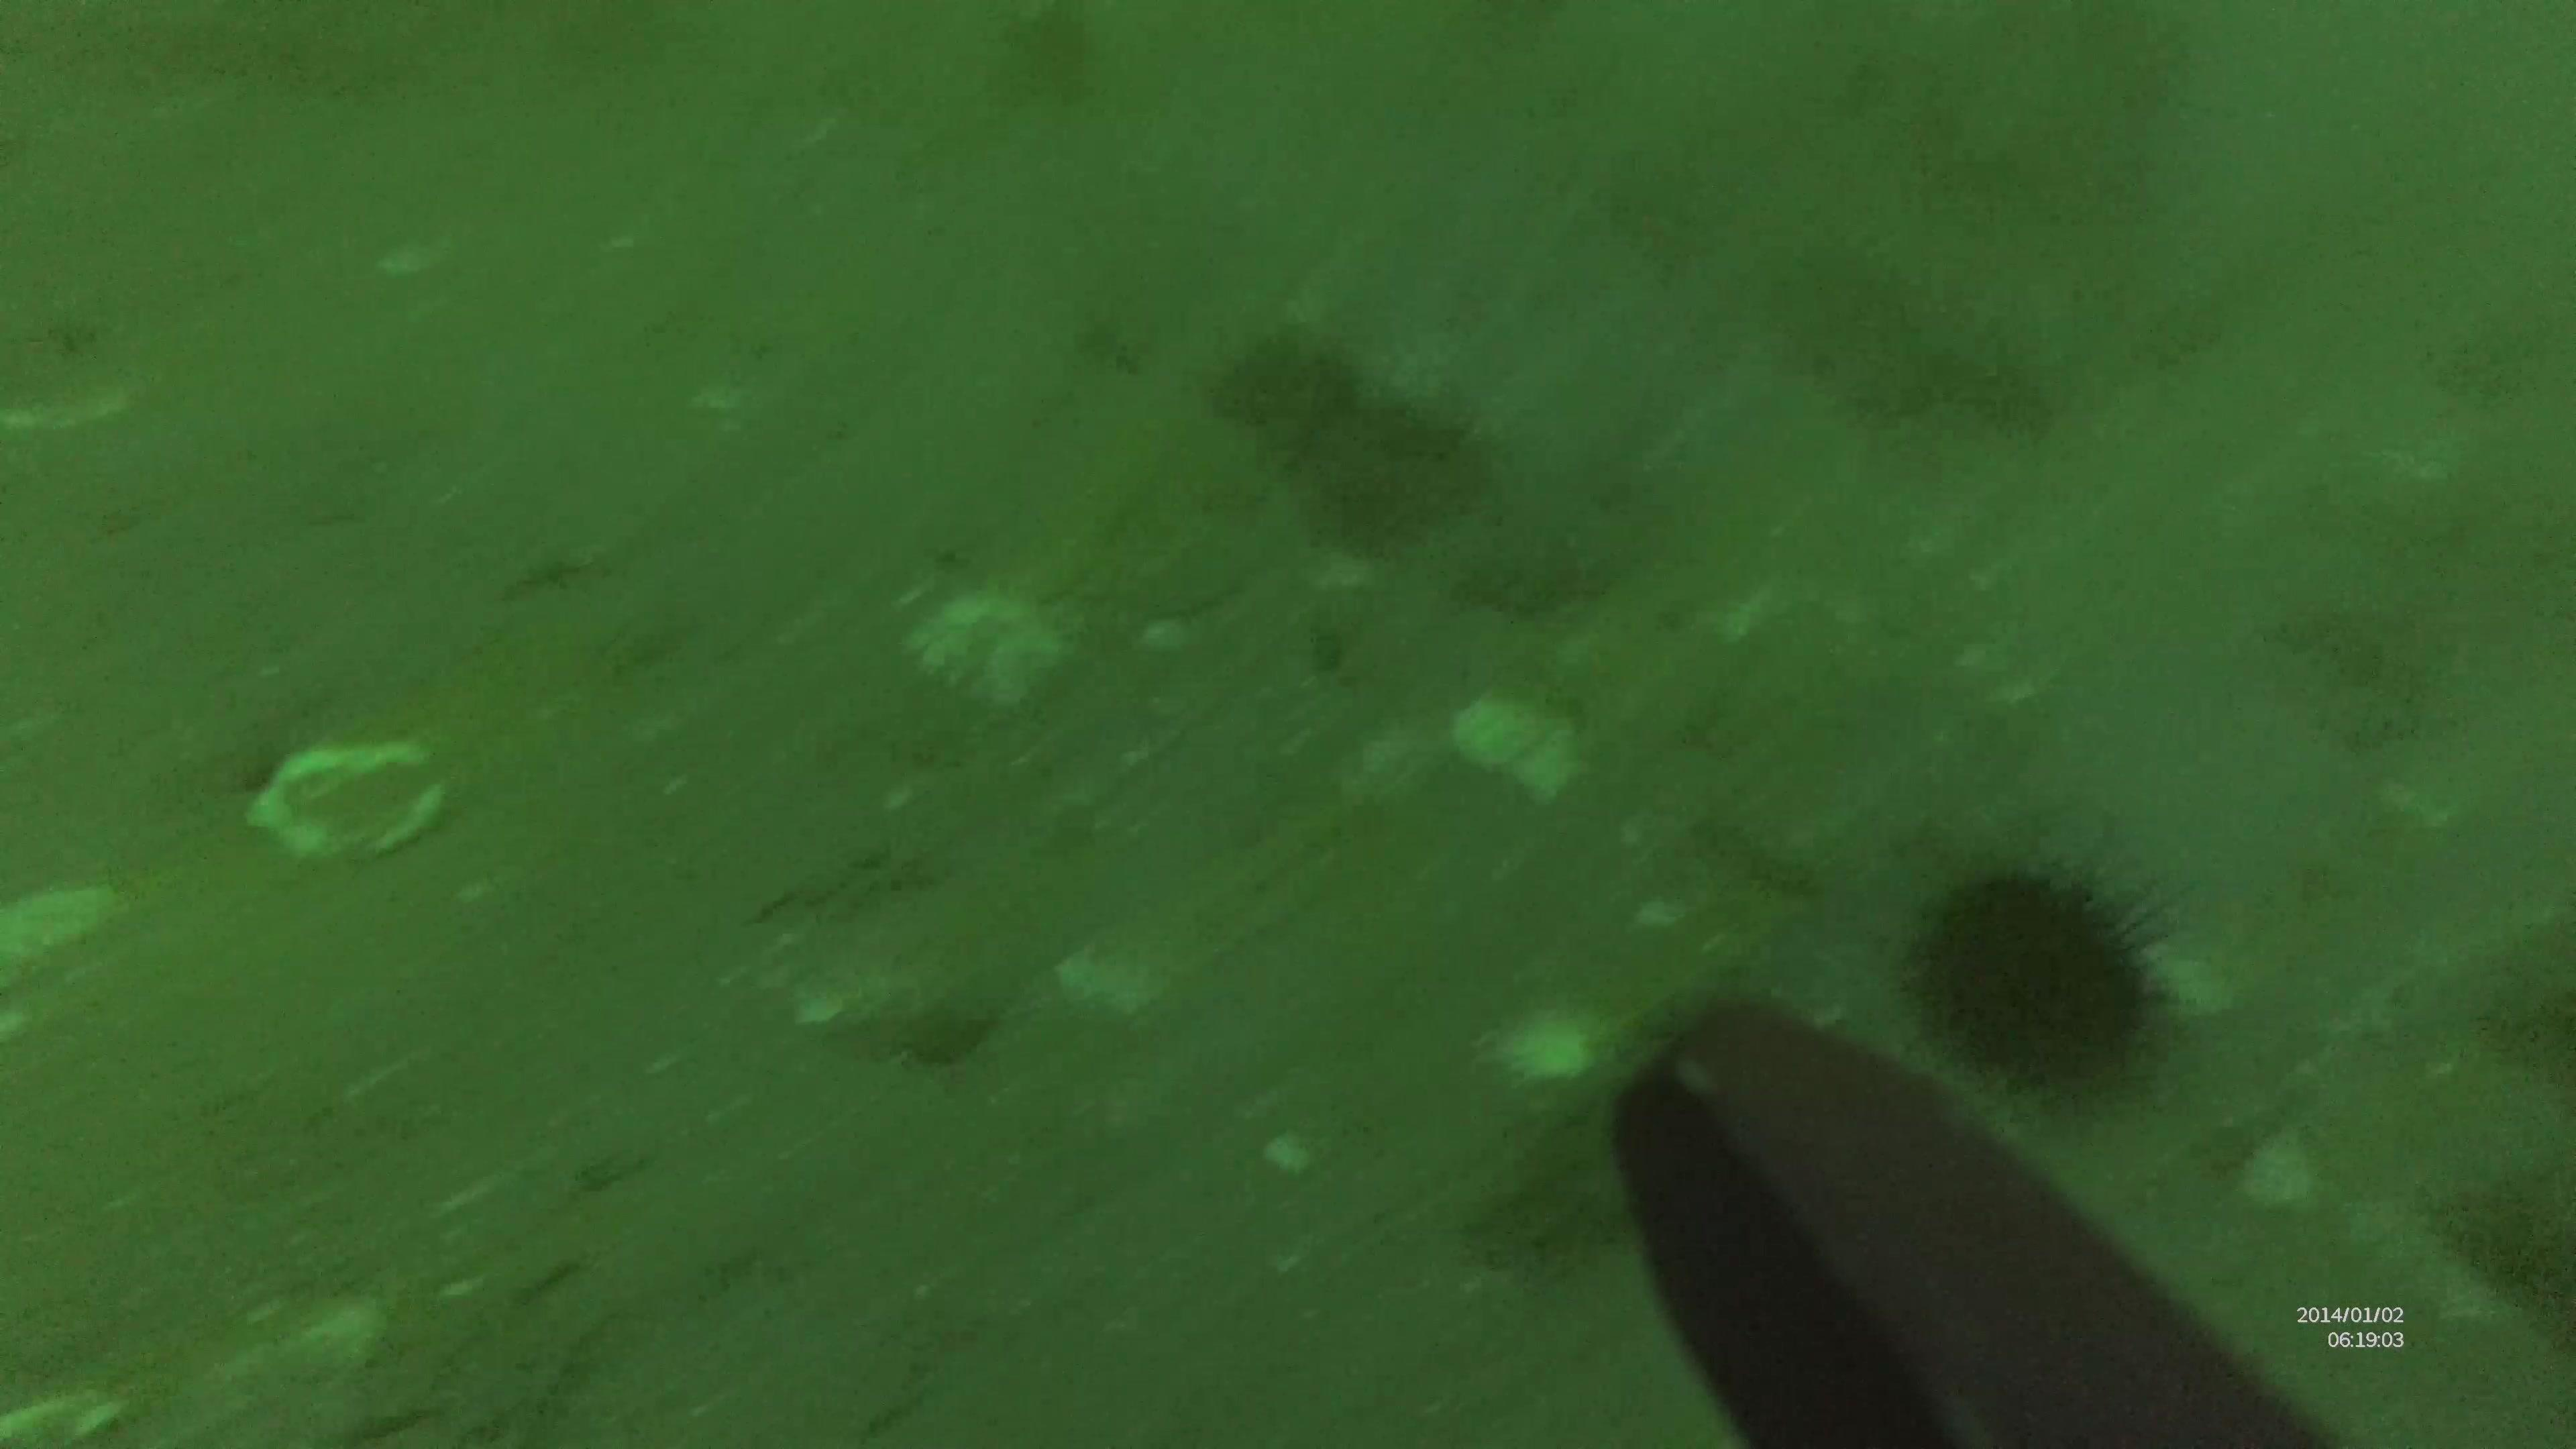echinus: (1913, 869, 2183, 1085)
